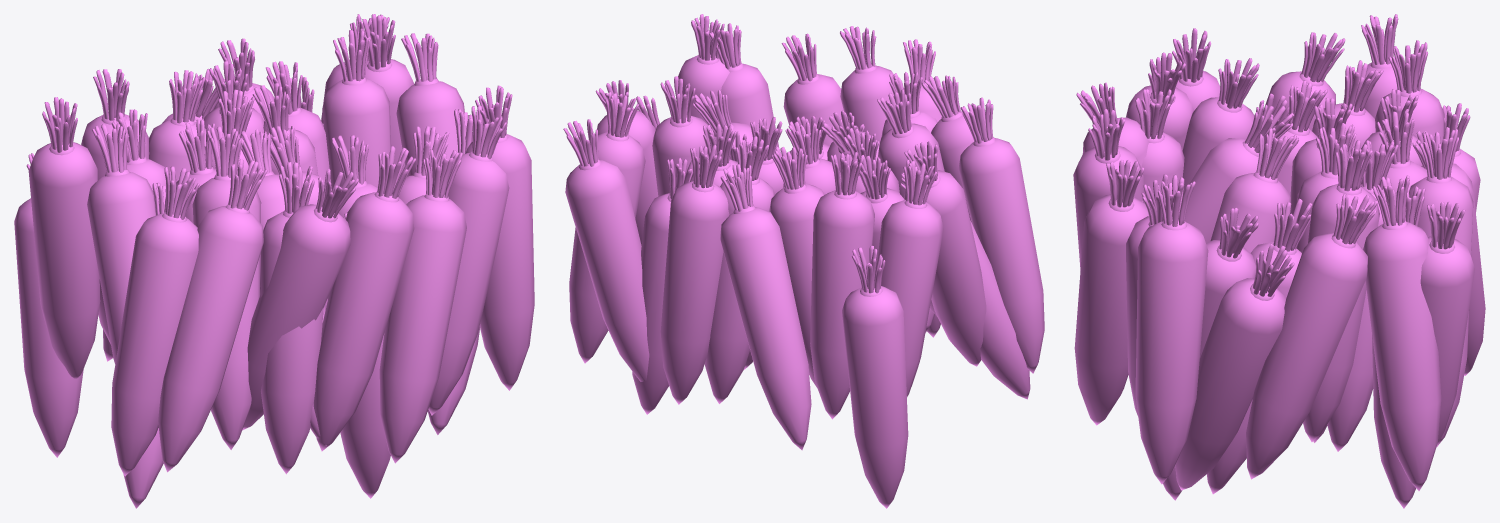
File: Nabos_Grande.FBX
The picture shows the model from 3 angles, left to right: view 1: azimuth 30°, elevation 25°; view 2: azimuth 150°, elevation 25°; view 3: azimuth 270°, elevation 25°; orthographic projection. The views are drawn at different scales.
Parts seen in each view (by area): view 1: Capsule129, Capsule151, Capsule158, Capsule128, Capsule142, Capsule150, Capsule157, Capsule149, Capsule130, Capsule146, Capsule134, Capsule156 (+21 smaller); view 2: Capsule140, Capsule134, Capsule128, Capsule165, Capsule144, Capsule138, Capsule142, Capsule146, Capsule161, Capsule143, Capsule162, Capsule163 (+18 smaller); view 3: Capsule157, Capsule161, Capsule164, Capsule154, Capsule158, Capsule165, Capsule156, Capsule132, Capsule159, Capsule131, Capsule144, Capsule141 (+20 smaller).
Part boxes in pixels (x1,y1,x2,y2): Capsule129: (158, 159, 267, 472); Capsule151: (313, 146, 415, 451); Capsule158: (379, 149, 466, 463); Capsule128: (111, 166, 199, 476); Capsule142: (28, 97, 100, 378); Capsule150: (242, 169, 358, 430); Capsule157: (465, 85, 534, 390); Capsule149: (428, 105, 509, 415); Capsule130: (260, 162, 323, 474); Capsule146: (87, 124, 155, 363); Capsule134: (14, 153, 83, 457); Capsule156: (322, 29, 391, 189); Capsule140: (720, 164, 811, 450); Capsule134: (842, 245, 908, 508); Capsule128: (958, 97, 1044, 373); Capsule165: (563, 119, 649, 381); Capsule144: (660, 145, 729, 404); Capsule138: (810, 152, 874, 419); Capsule142: (877, 159, 943, 396); Capsule146: (904, 141, 986, 366); Capsule161: (569, 92, 645, 363); Capsule143: (769, 146, 824, 387); Capsule162: (704, 136, 774, 403); Capsule163: (632, 158, 699, 414); Capsule157: (1135, 174, 1208, 484); Capsule161: (1363, 175, 1441, 490); Capsule164: (1246, 194, 1377, 479); Capsule154: (1175, 243, 1294, 490); Capsule158: (1074, 159, 1148, 425); Capsule165: (1420, 201, 1474, 442); Capsule156: (1303, 140, 1379, 441); Capsule132: (1183, 103, 1293, 243); Capsule159: (1210, 128, 1298, 252); Capsule131: (1182, 58, 1259, 193); Capsule144: (1409, 127, 1473, 446); Capsule141: (1327, 140, 1398, 451).
Bounding box in the file's own units: 108 × 94.57 × 90.17.
